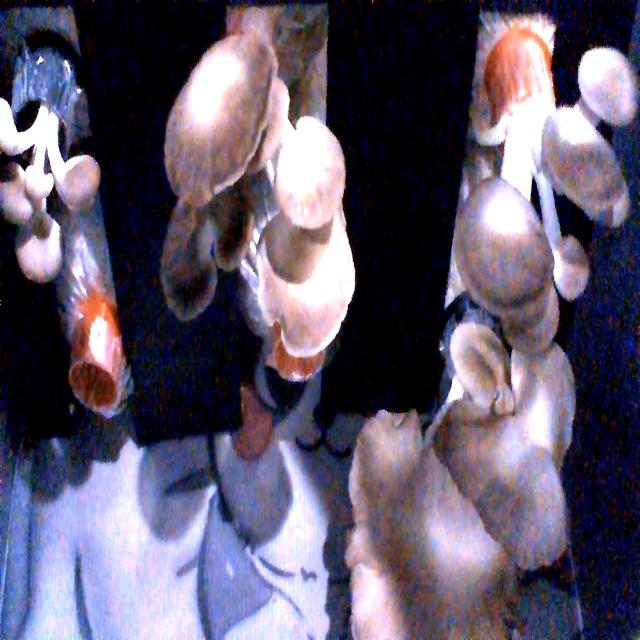big: (332, 310, 590, 640), (158, 41, 362, 373), (462, 42, 632, 354)
nfound: (54, 342, 152, 442)
small: (0, 58, 97, 313)
